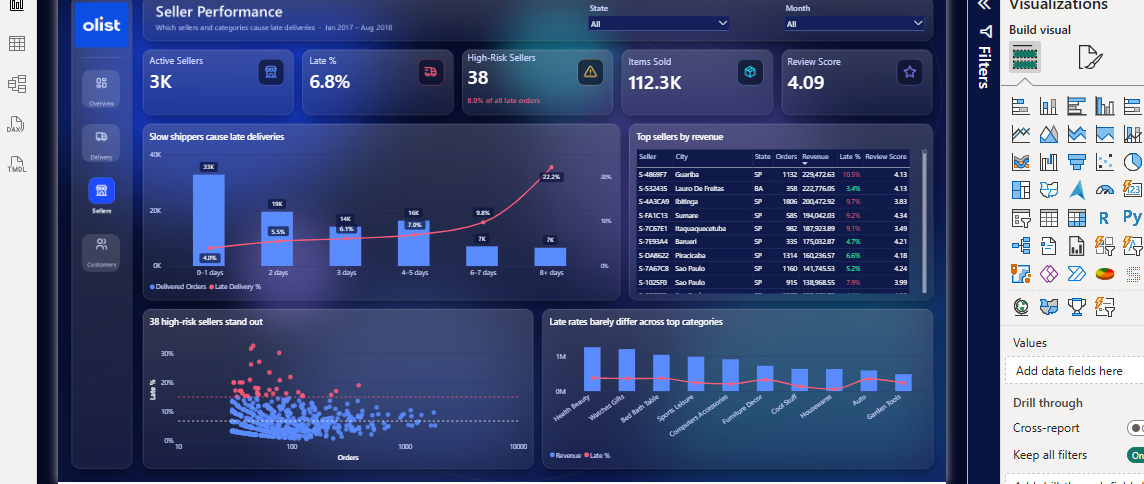

This screenshot's page, from the dashboard's own definition file:
{"tool":"powerbi","page":{"name":"Sellers","canvas":[1920,1080],"ordinal":3},"visuals":[{"type":"cardVisual","fields":{"Data":["_Measures.Active Sellers Label"]},"box":[182.2,117,233.7,153.2],"z":0},{"type":"slicer","fields":{"Values":["Calendar.Year-Month"]},"box":[1563.1,39.3,313.8,80.5],"z":1000},{"type":"slicer","fields":{"Values":["Customers.customer_state"]},"box":[1140.5,38.9,315.4,79.9],"z":2000},{"type":"cardVisual","fields":{"Data":["_Measures.Seller Review Score"]},"box":[1559.5,118.8,248.4,153.4],"z":3000},{"type":"cardVisual","fields":{"Data":["_Measures.Items Sold"]},"box":[1216.1,118.8,216,153.4],"z":4000},{"type":"cardVisual","fields":{"Data":["_Measures.High-Risk Sellers"]},"box":[868.3,149,248.4,153.4],"z":5000},{"type":"cardVisual","fields":{"Data":["_Measures.Late Delivery % (Seller)"]},"box":[527.8,117,243.5,153.2],"z":6000},{"type":"actionButton","box":[51.8,302.4,82.1,82.1],"z":7000},{"type":"actionButton","box":[51.8,302.4,82.1,82.1],"z":8000},{"type":"actionButton","box":[51.8,185.8,82.1,82.1],"z":9000},{"type":"actionButton","box":[51.8,540,82.1,82.1],"z":10000},{"type":"actionButton","box":[51.8,302.4,82.1,82.1],"z":11000},{"type":"actionButton","box":[51.8,185.8,82.1,82.1],"z":12000},{"type":"actionButton","box":[51.8,540,82.1,82.1],"z":13000},{"type":"lineClusteredColumnComboChart","title":"Slow shippers cause late deliveries","fields":{"Category":["Orders.Handling Bucket"],"Y":["_Measures.Delivered Orders"],"Y2":["_Measures.Late Delivery %"]},"box":[181.4,302.4,1034.6,382.3],"z":13001},{"type":"tableEx","title":"Top sellers by revenue","fields":{"Values":["Sellers.Seller Code","Sellers.seller_city","Sellers.seller_state","_Measures.Seller Orders","_Measures.Seller Revenue","_Measures.Late Delivery % (Seller)","_Measures.Seller Review Score"]},"box":[1233.4,302.4,658.8,382.3],"z":13002},{"type":"scatterChart","title":"38 high-risk sellers stand out","fields":{"Category":["Sellers.Seller Code"],"X":["_Measures.Seller Orders"],"Y":["_Measures.Late Delivery % (Seller)"]},"box":[181.5,702.6,848.2,346],"z":13003},{"type":"lineClusteredColumnComboChart","title":"Late rates barely differ across top categories","fields":{"Category":["Products.Category"],"Y":["_Measures.Seller Revenue"],"Y2":["_Measures.Late Delivery % (Seller)"]},"box":[1046.5,702.6,846.1,346],"z":13004},{"type":"actionButton","box":[51.8,650.2,82.1,84.2],"z":13005}]}

Visuals, with their boxes on the page's 1920x1080 design canvas (x1, y1, x2, y2). These are canvas units, not pixel positions in the 1144x484 screenshot, which may show the page scaled, cropped or inside an application window:
cardVisual - _Measures.Active Sellers Label: (182,117,416,270)
slicer - Calendar.Year-Month: (1563,39,1877,120)
slicer - Customers.customer_state: (1140,39,1456,119)
cardVisual - _Measures.Seller Review Score: (1560,119,1808,272)
cardVisual - _Measures.Items Sold: (1216,119,1432,272)
cardVisual - _Measures.High-Risk Sellers: (868,149,1117,302)
cardVisual - _Measures.Late Delivery % (Seller): (528,117,771,270)
actionButton: (52,302,134,384)
actionButton: (52,302,134,384)
actionButton: (52,186,134,268)
actionButton: (52,540,134,622)
actionButton: (52,302,134,384)
actionButton: (52,186,134,268)
actionButton: (52,540,134,622)
"Slow shippers cause late deliveries" lineClusteredColumnComboChart: (181,302,1216,685)
"Top sellers by revenue" tableEx: (1233,302,1892,685)
"38 high-risk sellers stand out" scatterChart: (182,703,1030,1049)
"Late rates barely differ across top categories" lineClusteredColumnComboChart: (1046,703,1893,1049)
actionButton: (52,650,134,734)
